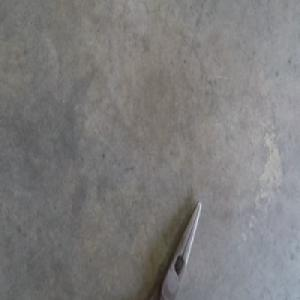Pliers: (152, 200, 201, 298)
